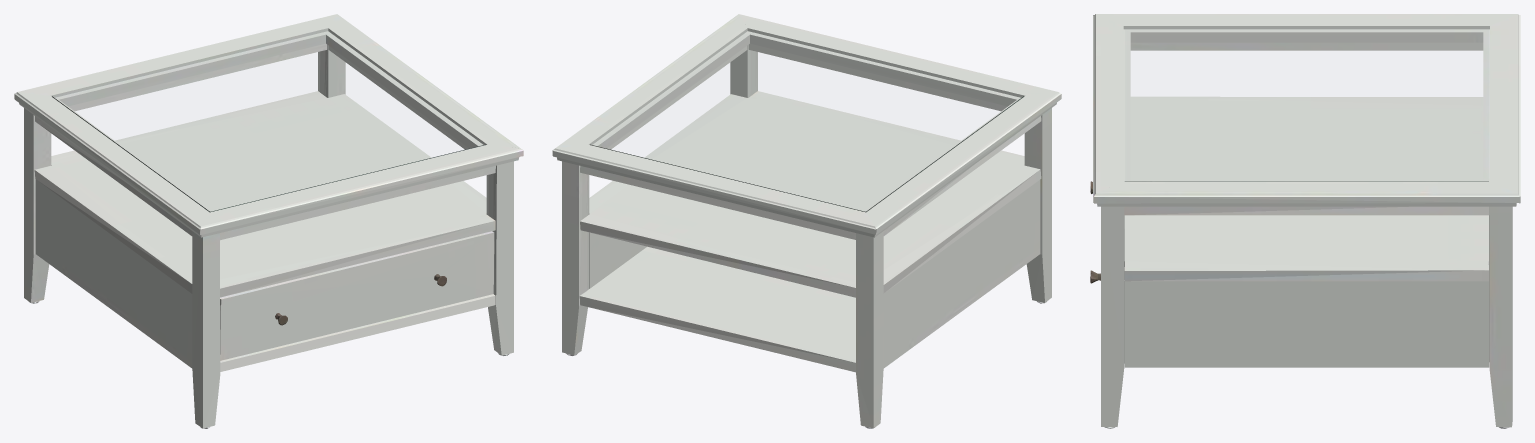
3 renders of one model, left to right at view 1: azimuth 30°, elevation 25°; view 2: azimuth 150°, elevation 25°; view 3: azimuth 270°, elevation 25°, orthographic. The views are drawn at different scales.
Parts seen in each view (by area): view 1: 1_NODE_ID_f5ef50a0-3dc4-4cf9-9133-30f7c8174afe; view 2: 1_NODE_ID_f5ef50a0-3dc4-4cf9-9133-30f7c8174afe; view 3: 1_NODE_ID_f5ef50a0-3dc4-4cf9-9133-30f7c8174afe.
Boxes of the visible parts, bbox=[...] form: 1_NODE_ID_f5ef50a0-3dc4-4cf9-9133-30f7c8174afe: bbox=[14, 14, 523, 428]; 1_NODE_ID_f5ef50a0-3dc4-4cf9-9133-30f7c8174afe: bbox=[552, 14, 1061, 428]; 1_NODE_ID_f5ef50a0-3dc4-4cf9-9133-30f7c8174afe: bbox=[1090, 14, 1520, 428].
Bounding box in the file's own units: 0.8 × 0.49 × 0.8.
2 materials, 1 textured.
